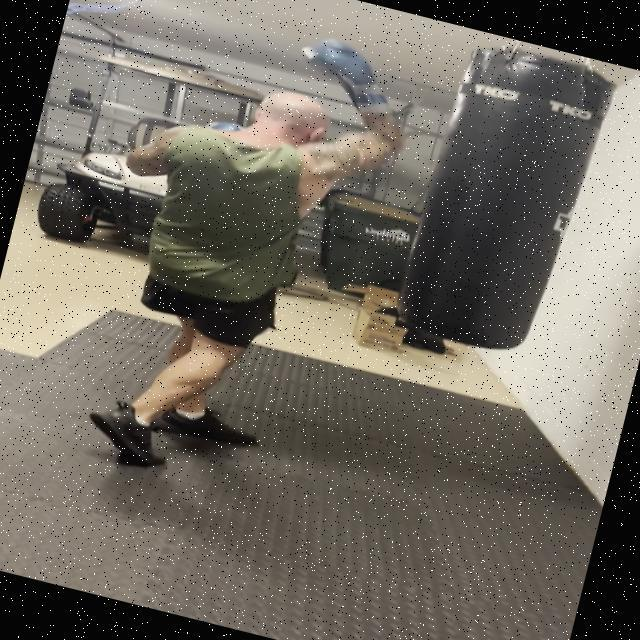bag: (389, 26, 618, 367)
uppercut: (112, 0, 436, 229)
